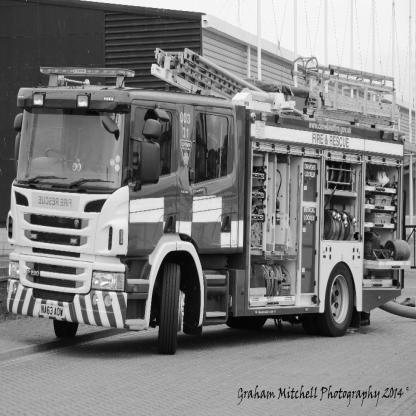truck: (6, 59, 416, 367)
